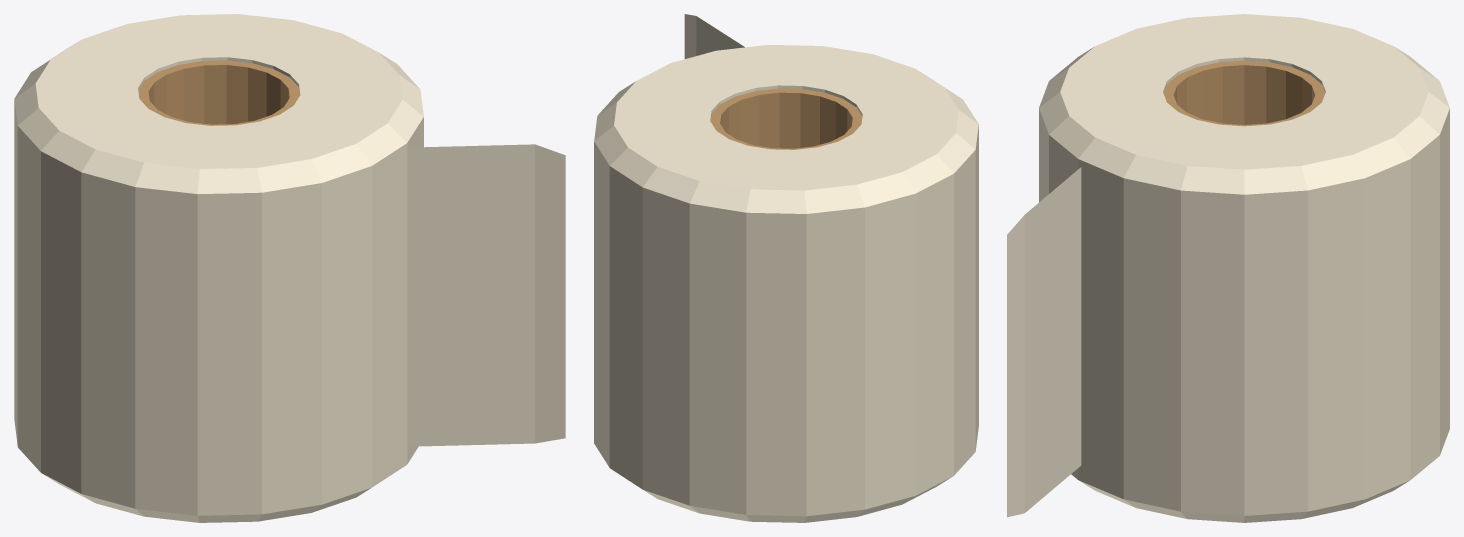
File: Supplies-PaperRoll.fbx
The picture shows the model from 3 angles, left to right: view 1: azimuth 30°, elevation 25°; view 2: azimuth 150°, elevation 25°; view 3: azimuth 270°, elevation 25°; orthographic projection. The views are drawn at different scales.
Parts seen in each view (by area): view 1: Rolled Paper, Loose Paper End, Cardboard Core; view 2: Rolled Paper, Cardboard Core, Loose Paper End; view 3: Rolled Paper, Loose Paper End, Cardboard Core.
Boxes of the visible parts, <box> form: Rolled Paper: <box>14,14,423,522</box>; Loose Paper End: <box>408,144,565,446</box>; Cardboard Core: <box>138,60,299,125</box>; Rolled Paper: <box>594,44,978,522</box>; Cardboard Core: <box>710,88,862,149</box>; Loose Paper End: <box>684,14,744,58</box>; Rolled Paper: <box>1039,14,1449,522</box>; Loose Paper End: <box>1007,167,1081,517</box>; Cardboard Core: <box>1163,60,1325,126</box>.
Size of the model in its own units: 0.132 by 0.11 by 0.125.
